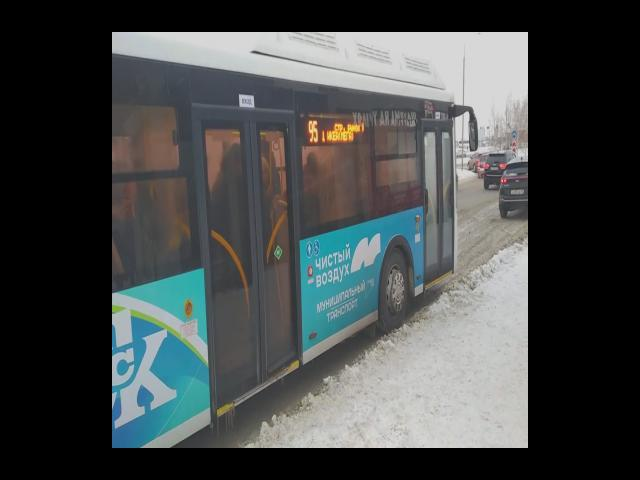bus: (112, 46, 477, 437)
car: (498, 157, 528, 222), (481, 151, 520, 188), (467, 150, 486, 171)
